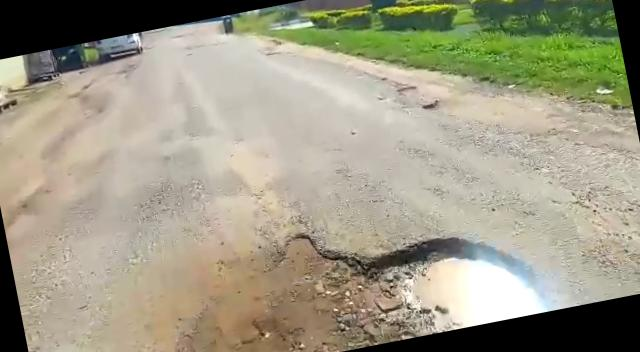pothole: (162, 187, 556, 352)
